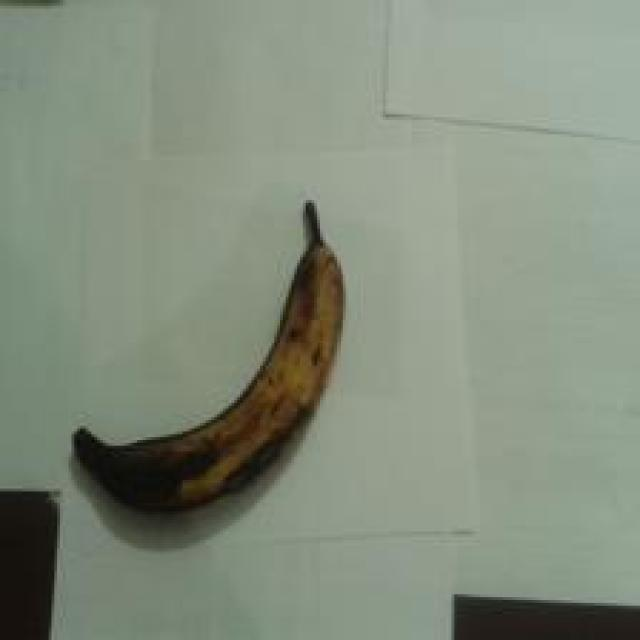Rotten_Banana: (240, 184, 386, 506), (73, 384, 352, 524)
